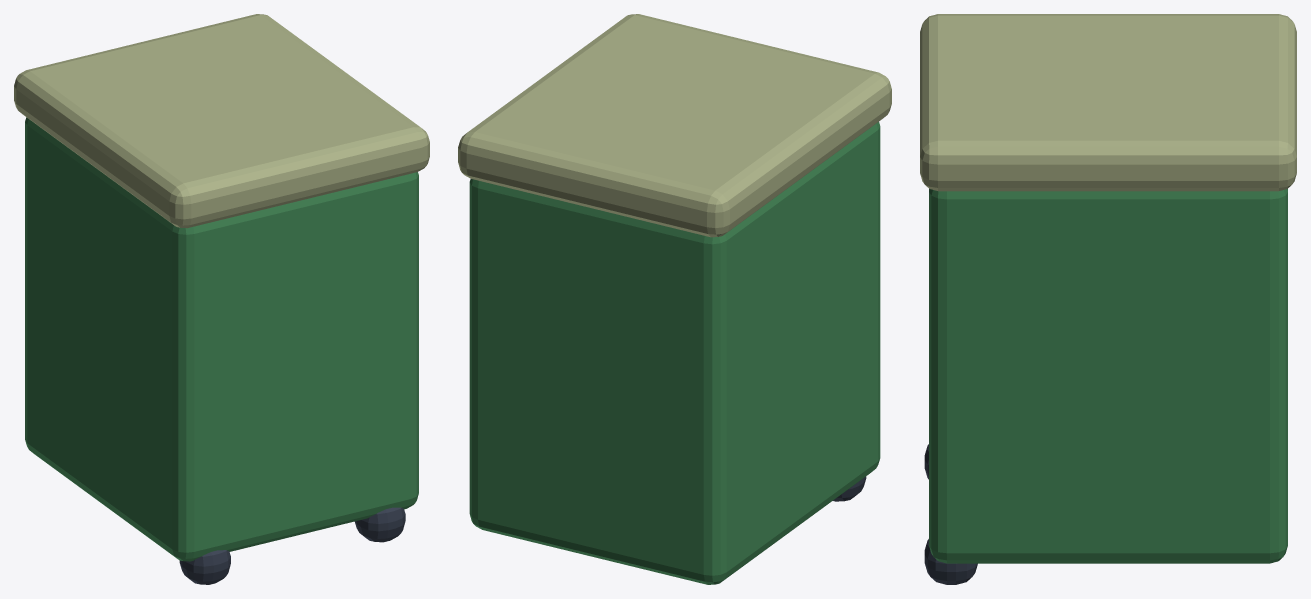
Rendered from bin.glb.
3 renders of one model, left to right at view 1: azimuth 30°, elevation 25°; view 2: azimuth 150°, elevation 25°; view 3: azimuth 270°, elevation 25°, orthographic. The views are drawn at different scales.
Visible parts, largest first — view 1: bin, bin_lid, bin_wheel_l, bin_wheel_r; view 2: bin, bin_lid; view 3: bin, bin_lid, bin_wheel_r.
Part boxes in pixels (bbox=[...]): bin: bbox=[25, 117, 418, 561]; bin_lid: bbox=[14, 14, 429, 228]; bin_wheel_l: bbox=[179, 550, 230, 584]; bin_wheel_r: bbox=[354, 507, 405, 542]; bin: bbox=[469, 122, 880, 584]; bin_lid: bbox=[458, 14, 891, 237]; bin: bbox=[929, 189, 1287, 563]; bin_lid: bbox=[920, 14, 1296, 191]; bin_wheel_r: bbox=[924, 539, 977, 584].
Bounding box in the file's own units: 0.74 × 1.12 × 0.84.
